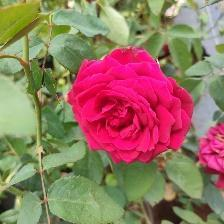rose: (67, 46, 197, 166), (199, 118, 224, 189)
